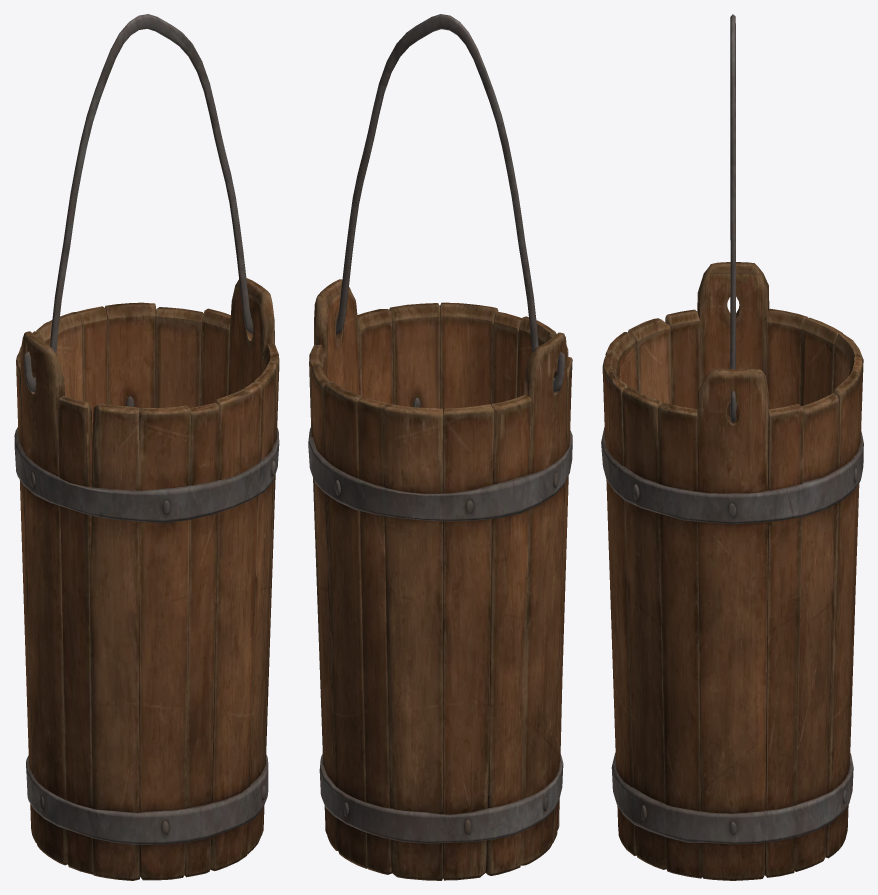
The model's file is bucket.glb.
3 views of the same model, side by side, from view 1: azimuth 30°, elevation 25°; view 2: azimuth 150°, elevation 25°; view 3: azimuth 270°, elevation 25° (orthographic).
Visible parts, largest first — view 1: wooden_bucket_01.001, wooden_bucket_01_handle.001; view 2: wooden_bucket_01.001, wooden_bucket_01_handle.001; view 3: wooden_bucket_01.001, wooden_bucket_01_handle.001.
Part boxes in pixels (x1,y1,x2,y2): wooden_bucket_01.001: [14, 278, 279, 880]; wooden_bucket_01_handle.001: [24, 14, 252, 392]; wooden_bucket_01.001: [308, 279, 572, 880]; wooden_bucket_01_handle.001: [336, 14, 564, 393]; wooden_bucket_01.001: [601, 262, 863, 880]; wooden_bucket_01_handle.001: [730, 14, 736, 423].
Bounding box in the file's own units: 8.5 × 27.06 × 7.93.
1 material, 1 textured.
